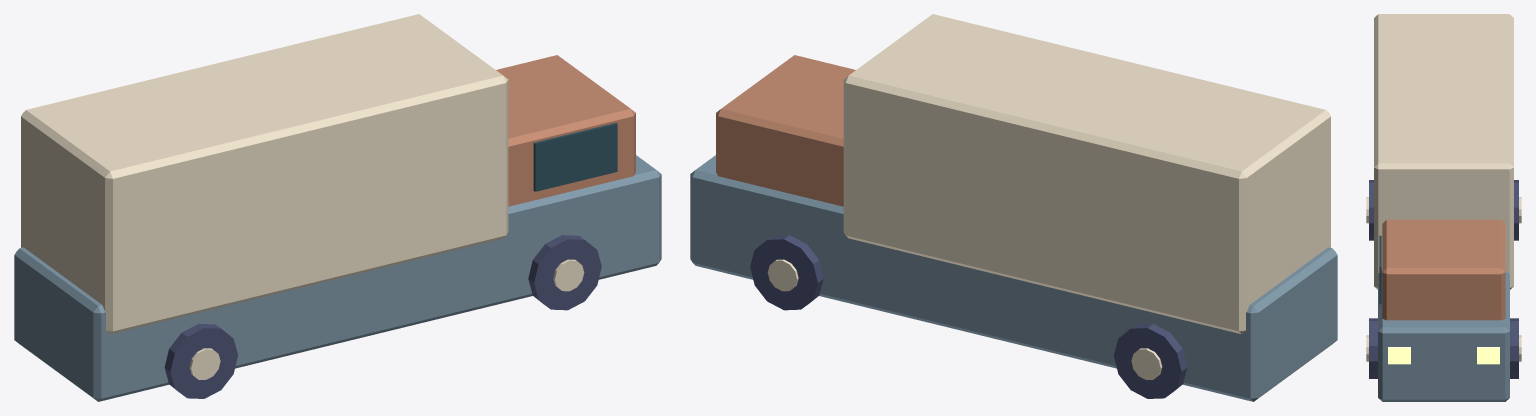
Rendered from sf3_delivery_truck.glb.
3 renders of one model, left to right at view 1: azimuth 30°, elevation 25°; view 2: azimuth 150°, elevation 25°; view 3: azimuth 270°, elevation 25°, orthographic. The views are drawn at different scales.
Parts seen in each view (by area): view 1: sf3_delivery_truck__sf3-warm-ivory, sf3_delivery_truck__sf3-dusty-blue, sf3_delivery_truck__sf3-burnished-copper, sf3_delivery_truck__sf3-midnight-indigo, sf3_delivery_truck__sf3-deep-glass; view 2: sf3_delivery_truck__sf3-warm-ivory, sf3_delivery_truck__sf3-dusty-blue, sf3_delivery_truck__sf3-burnished-copper, sf3_delivery_truck__sf3-midnight-indigo; view 3: sf3_delivery_truck__sf3-warm-ivory, sf3_delivery_truck__sf3-burnished-copper, sf3_delivery_truck__sf3-dusty-blue, sf3_delivery_truck__sf3-midnight-indigo, sf3_delivery_truck__sf3-warm-window, sf3_delivery_truck__sf3-deep-glass.
Boxes of the visible parts, x1,y1,x2,y2 form: sf3_delivery_truck__sf3-warm-ivory: (21, 14, 584, 379); sf3_delivery_truck__sf3-dusty-blue: (14, 155, 661, 401); sf3_delivery_truck__sf3-burnished-copper: (496, 55, 635, 206); sf3_delivery_truck__sf3-midnight-indigo: (164, 235, 601, 398); sf3_delivery_truck__sf3-deep-glass: (533, 123, 617, 191); sf3_delivery_truck__sf3-warm-ivory: (767, 14, 1330, 379); sf3_delivery_truck__sf3-dusty-blue: (690, 155, 1337, 401); sf3_delivery_truck__sf3-burnished-copper: (716, 55, 855, 206); sf3_delivery_truck__sf3-midnight-indigo: (750, 235, 1187, 398); sf3_delivery_truck__sf3-warm-ivory: (1366, 14, 1521, 361); sf3_delivery_truck__sf3-burnished-copper: (1382, 219, 1505, 320); sf3_delivery_truck__sf3-dusty-blue: (1378, 270, 1509, 401); sf3_delivery_truck__sf3-midnight-indigo: (1369, 180, 1518, 378); sf3_delivery_truck__sf3-warm-window: (1388, 347, 1499, 364); sf3_delivery_truck__sf3-deep-glass: (1379, 235, 1381, 304).
Bounding box in the file's own units: 6.22 × 2.55 × 1.88.
